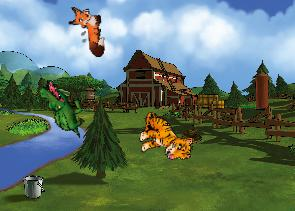crocodile: (28, 77, 97, 139)
fox: (67, 4, 106, 58)
tiger: (136, 111, 195, 162)
